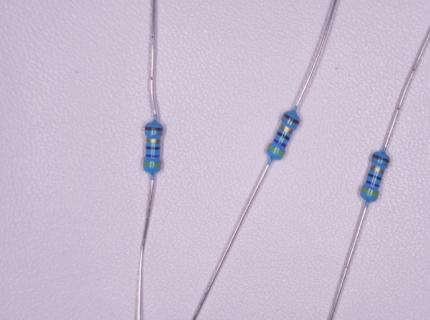Black band: (277, 131, 290, 141), (368, 173, 382, 181), (146, 146, 160, 150)
Brown band: (283, 113, 299, 125), (372, 154, 390, 163), (145, 126, 163, 131)
Gold band: (279, 123, 294, 135), (370, 165, 385, 175), (146, 138, 161, 143)
Violet band: (365, 179, 380, 189), (272, 138, 287, 148), (145, 154, 160, 158)
Yellow band: (268, 145, 285, 157), (361, 187, 379, 198), (143, 162, 162, 167)
